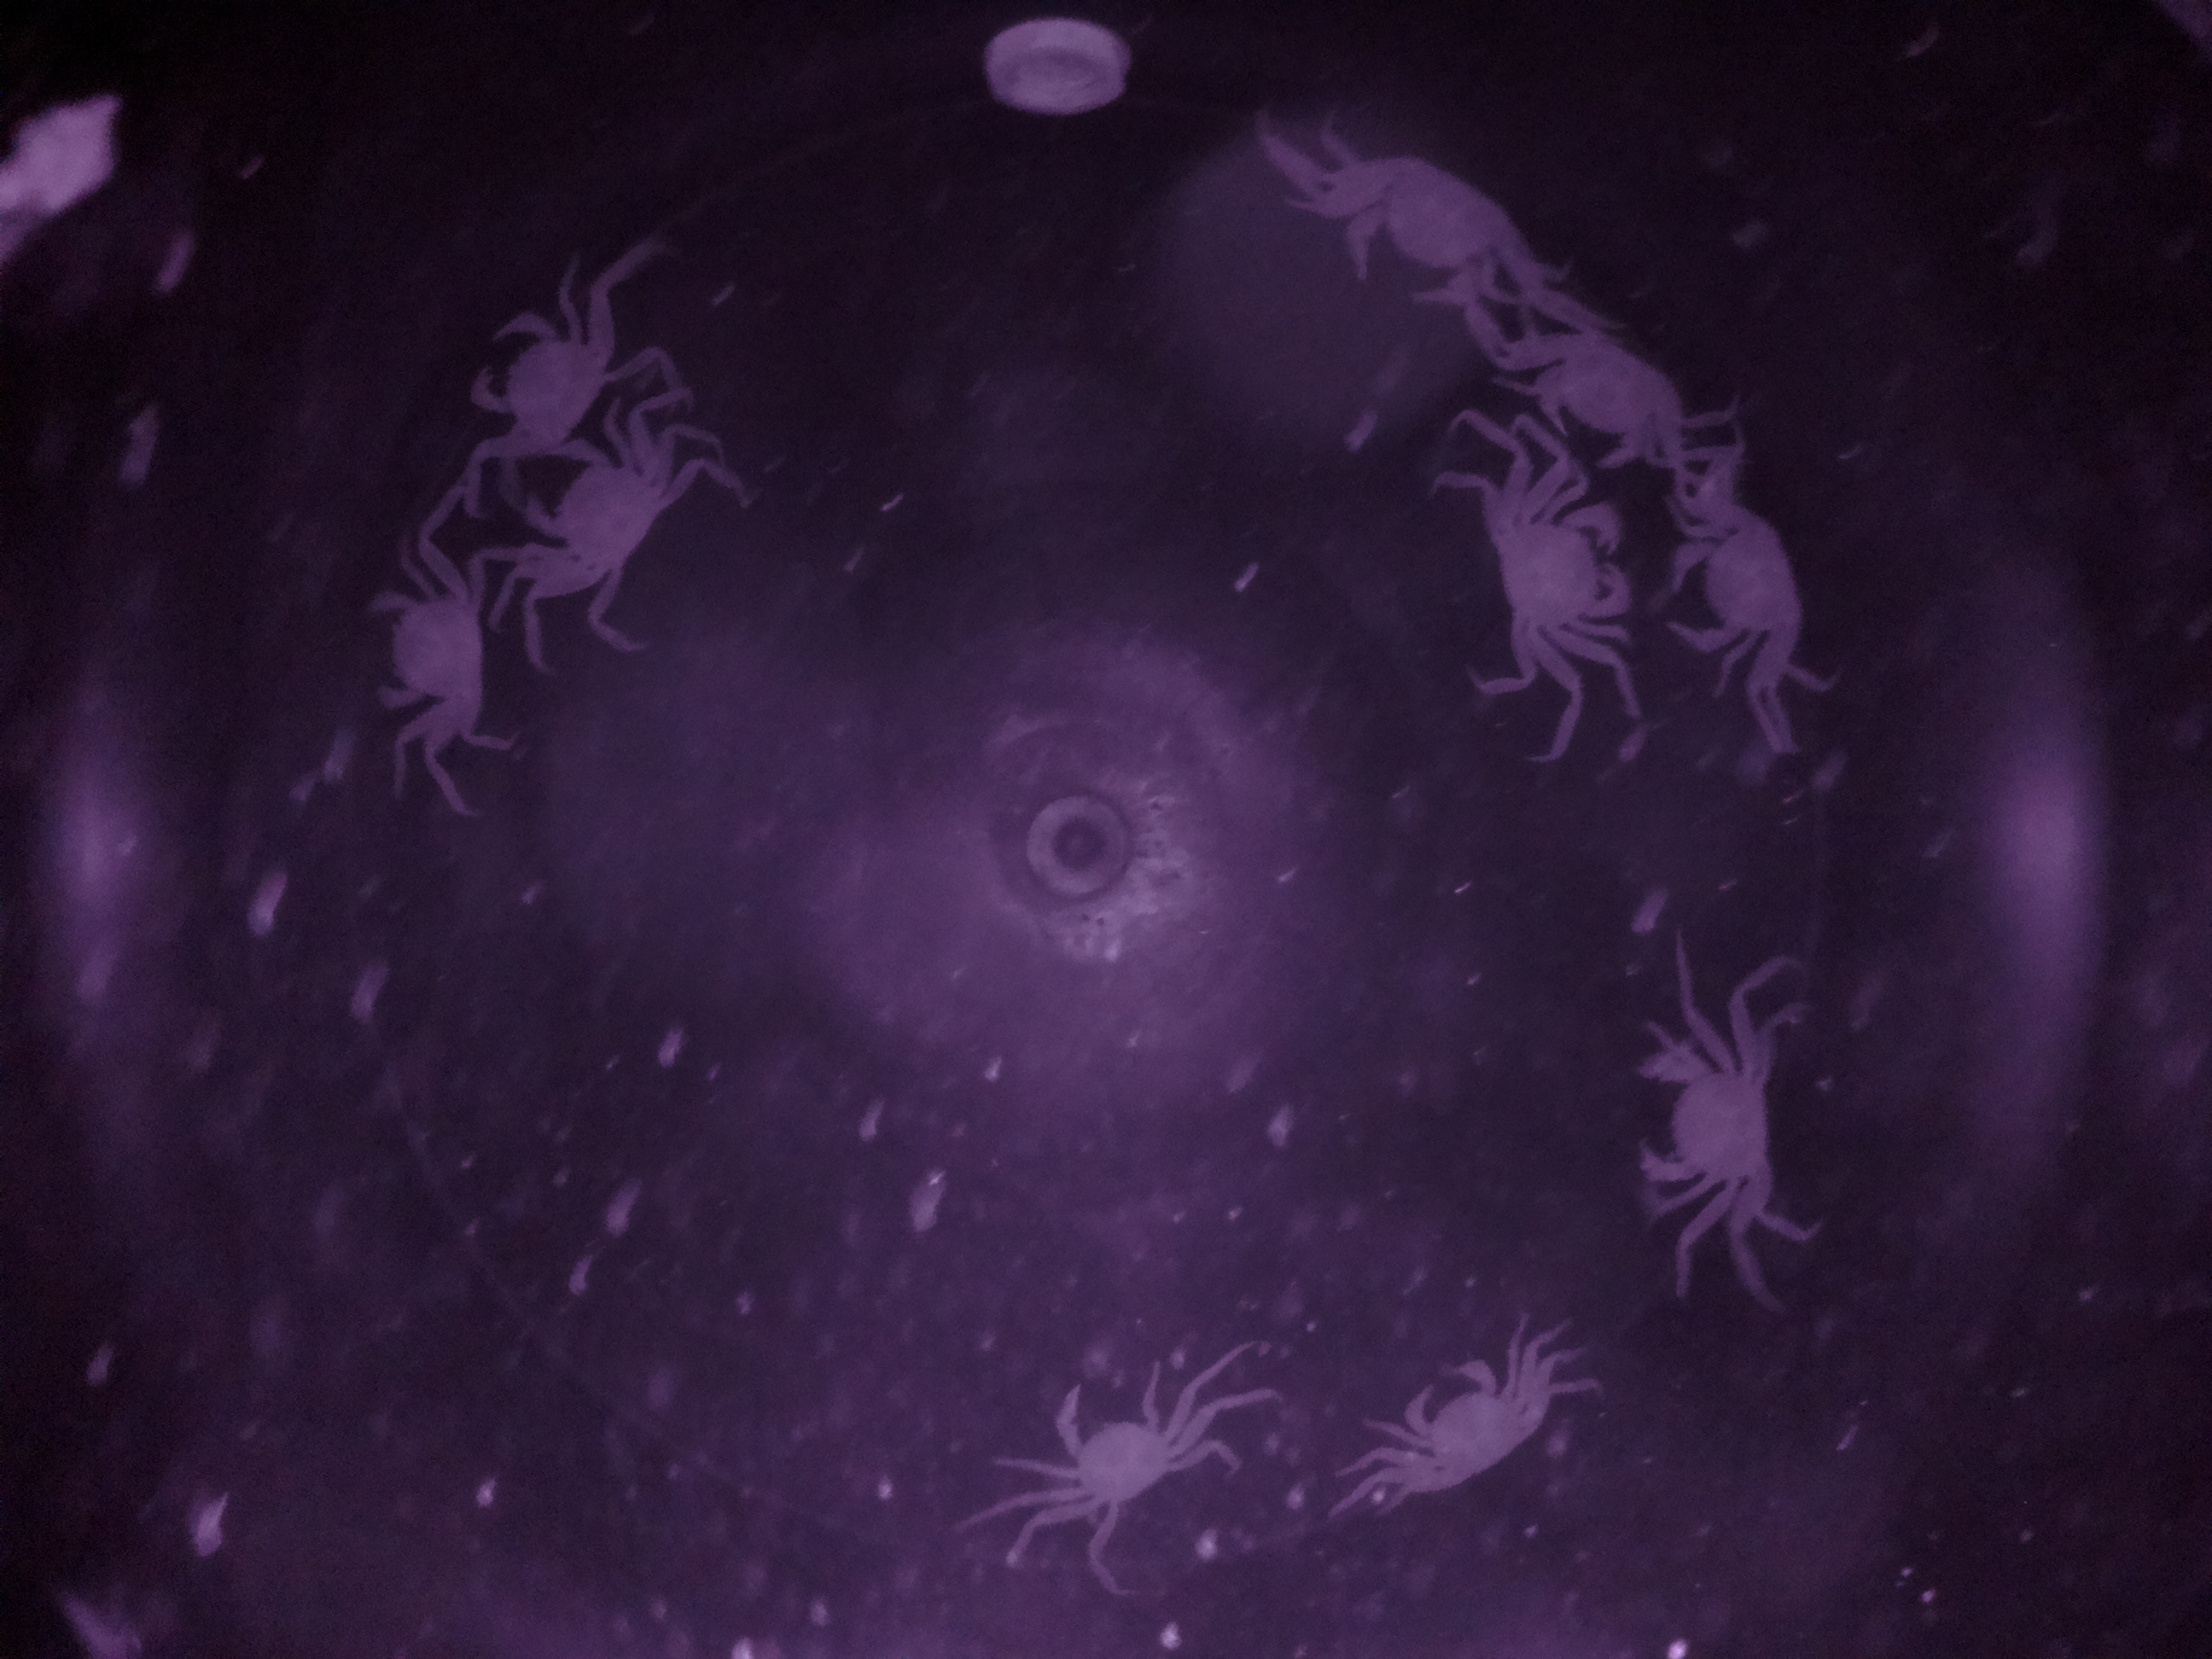Crab: (1315, 134, 1538, 333), (1007, 1338, 1217, 1527), (1625, 1025, 1804, 1229), (1512, 317, 1726, 479), (1646, 497, 1844, 667), (451, 277, 620, 474), (1357, 1345, 1555, 1507), (1482, 483, 1646, 664), (355, 563, 507, 742)
